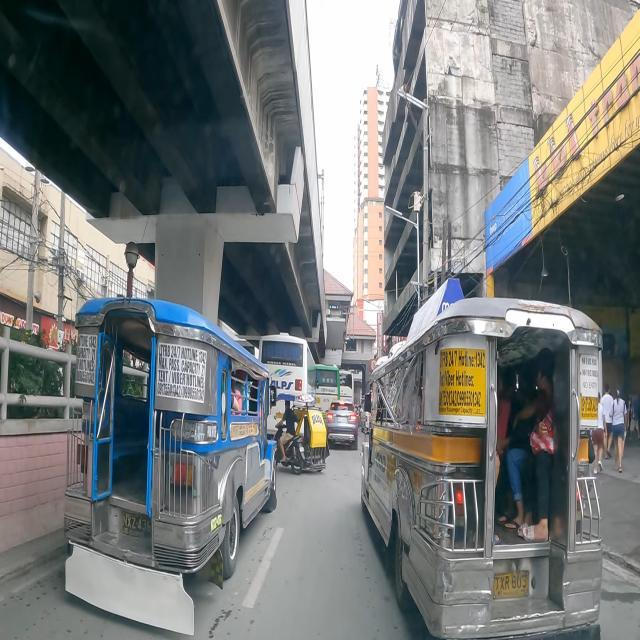bus: (258, 332, 319, 438), (315, 363, 340, 426), (340, 370, 354, 405)
car: (325, 400, 359, 451)
jeepney: (360, 278, 603, 640), (63, 297, 277, 638)
motorcycle: (272, 393, 330, 474)
